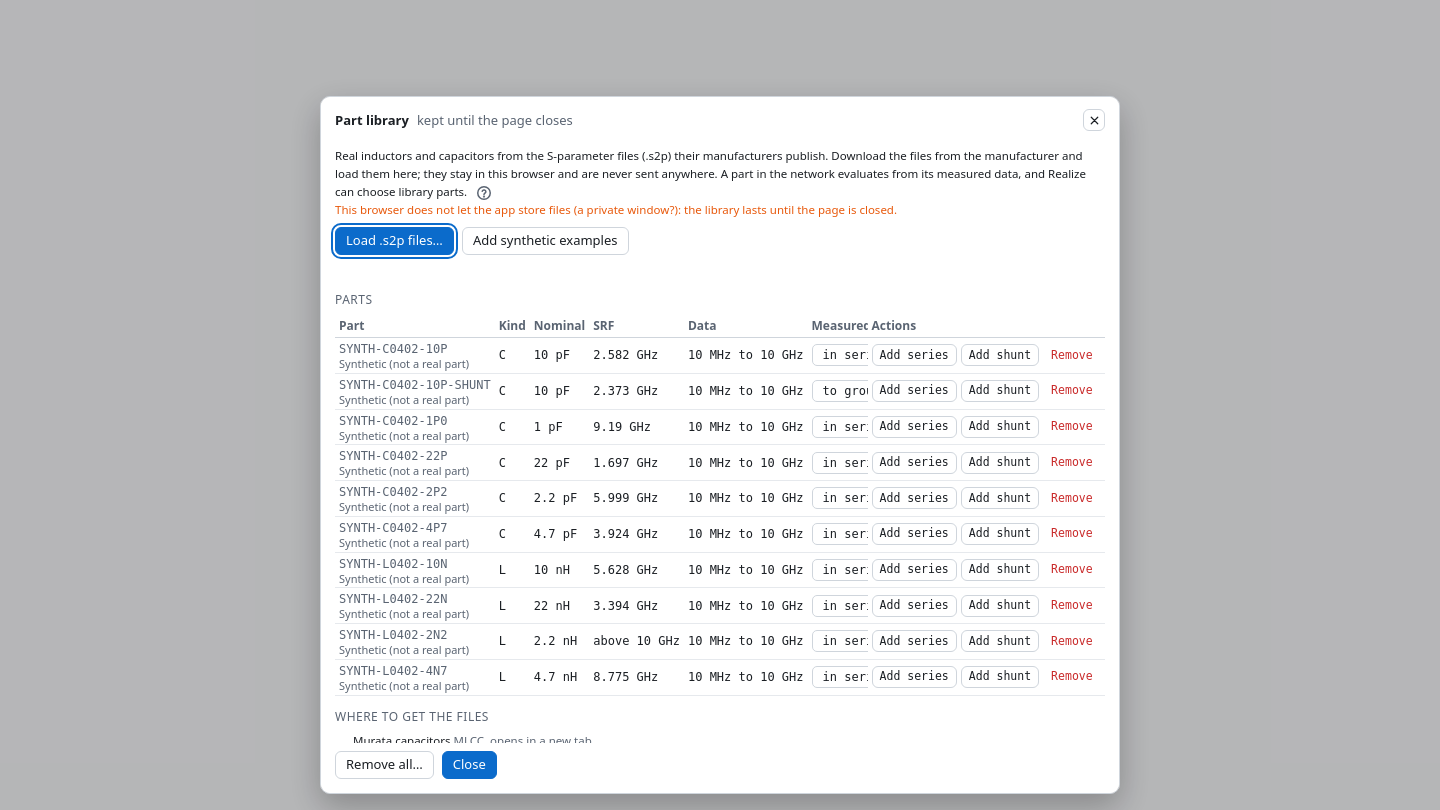
Test: the part library dialog › adding a part says so inside the dialog
Click the button with aria-label "Add SYNTH-L0402-10N in shunt": (1000, 570) [961,559,1039,581]
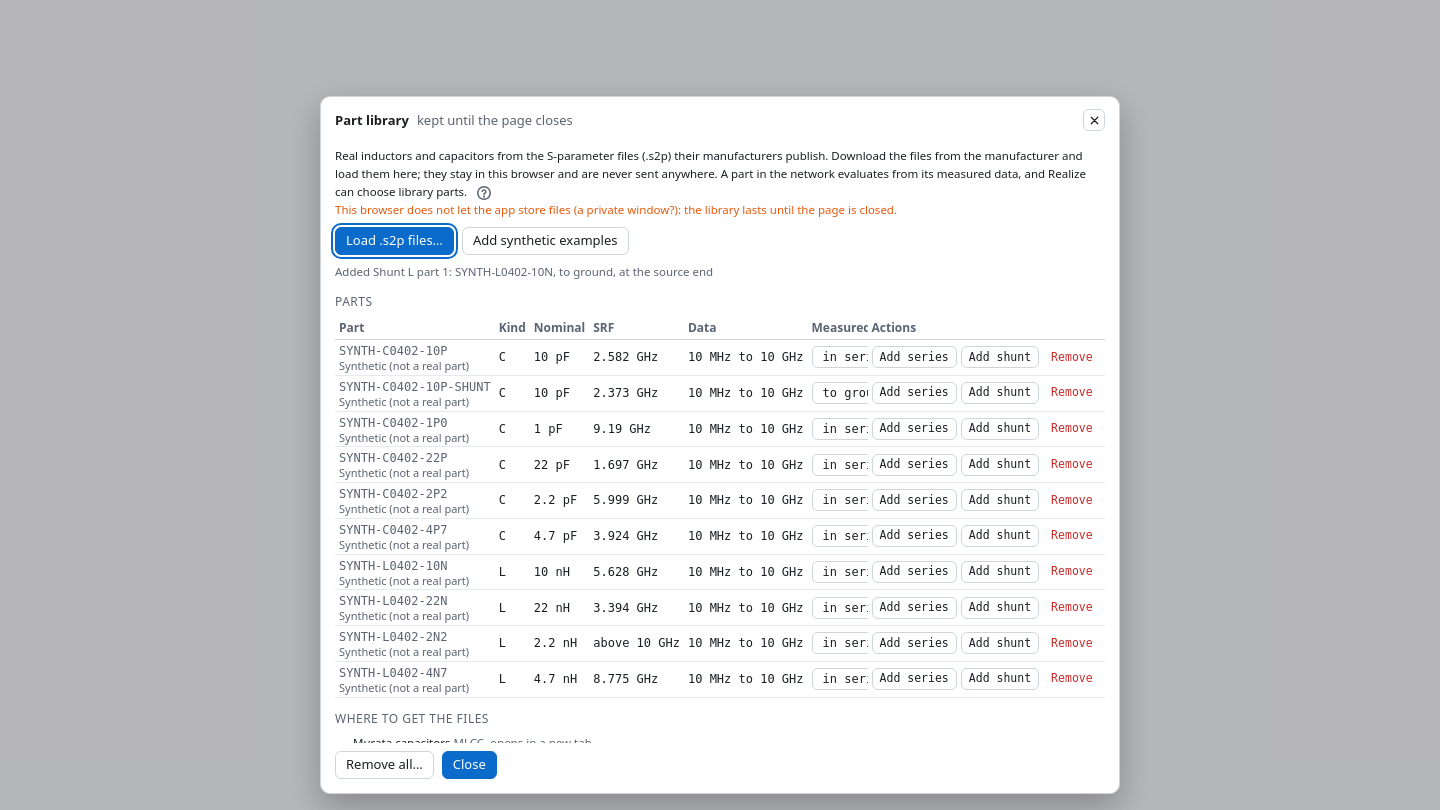
Now the message reads "Added Shunt L part 1: SYNTH-L0402-10N, to ground, at the source end", box [335,264,713,279]
